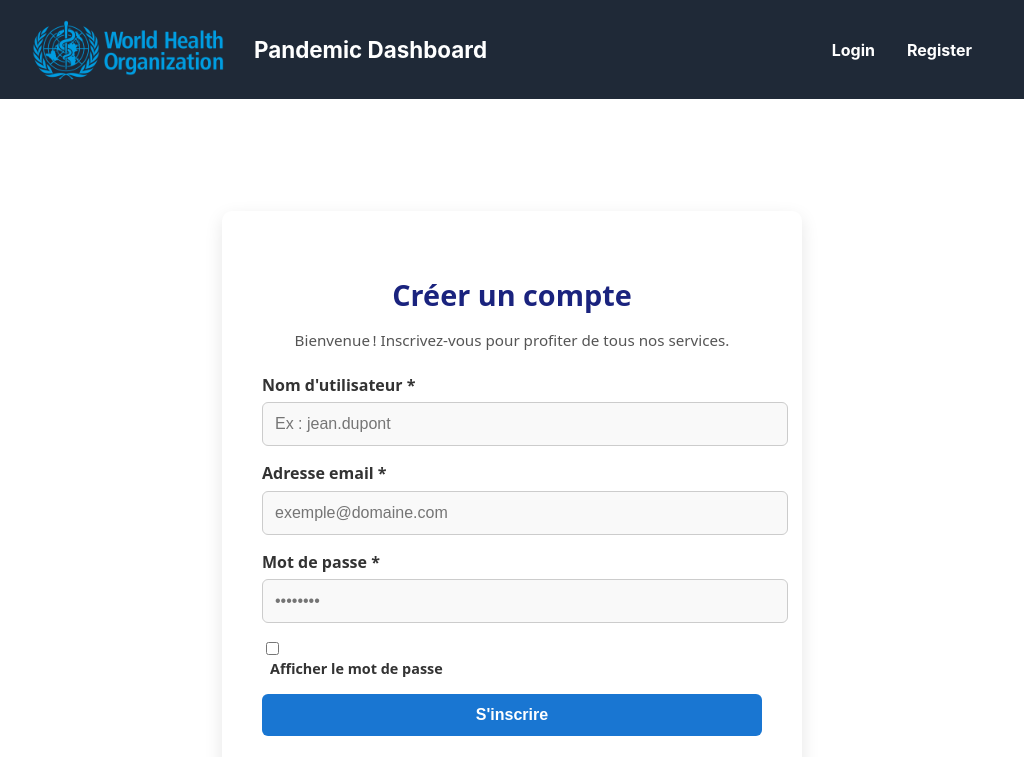
Formulaire d’inscription › affiche une erreur si le serveur renvoie une erreur
The width and height of the screenshot is (1024, 757).
Type "erroruser" into the field with id "username" at (525, 424), box [262,402,788,446]
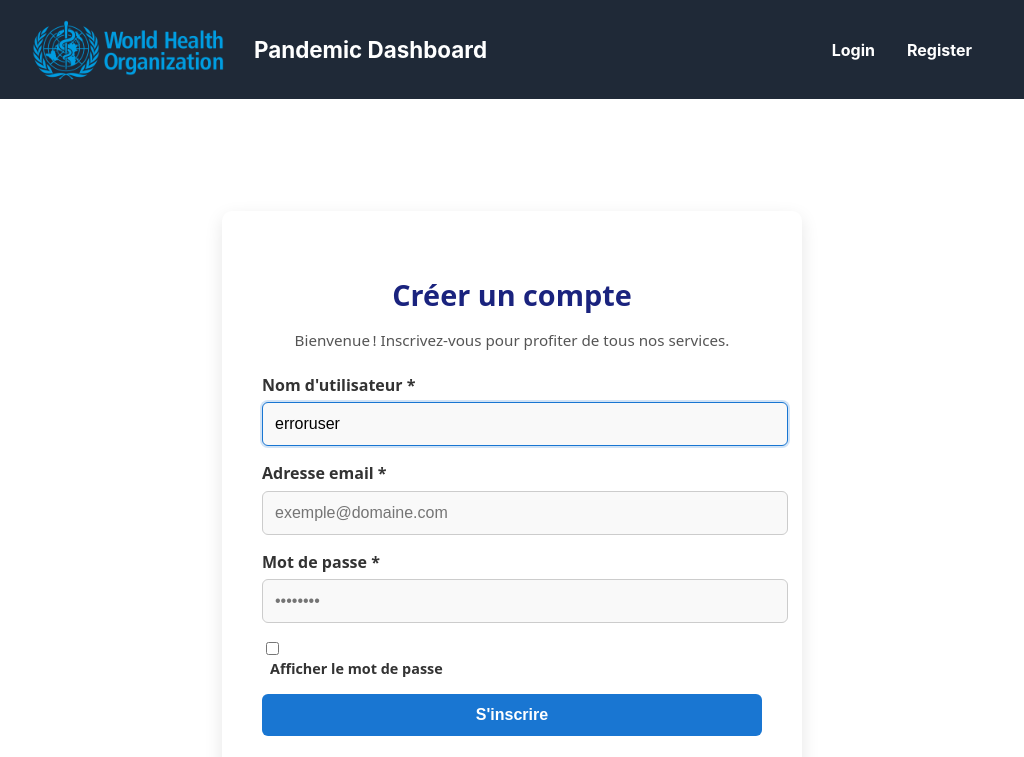
Type "error@example.com" into the field with id "email" at (525, 513), box [262,491,788,535]
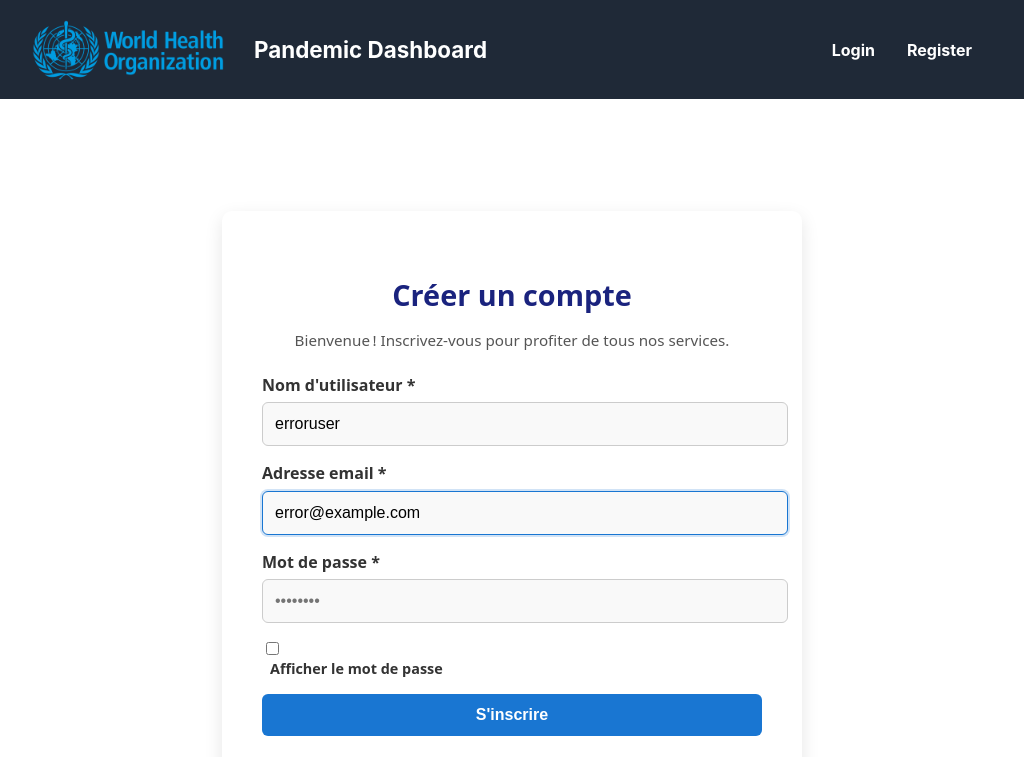
Type "password" into the password field labelled "Mot de passe *" at (525, 601), box [262,579,788,623]
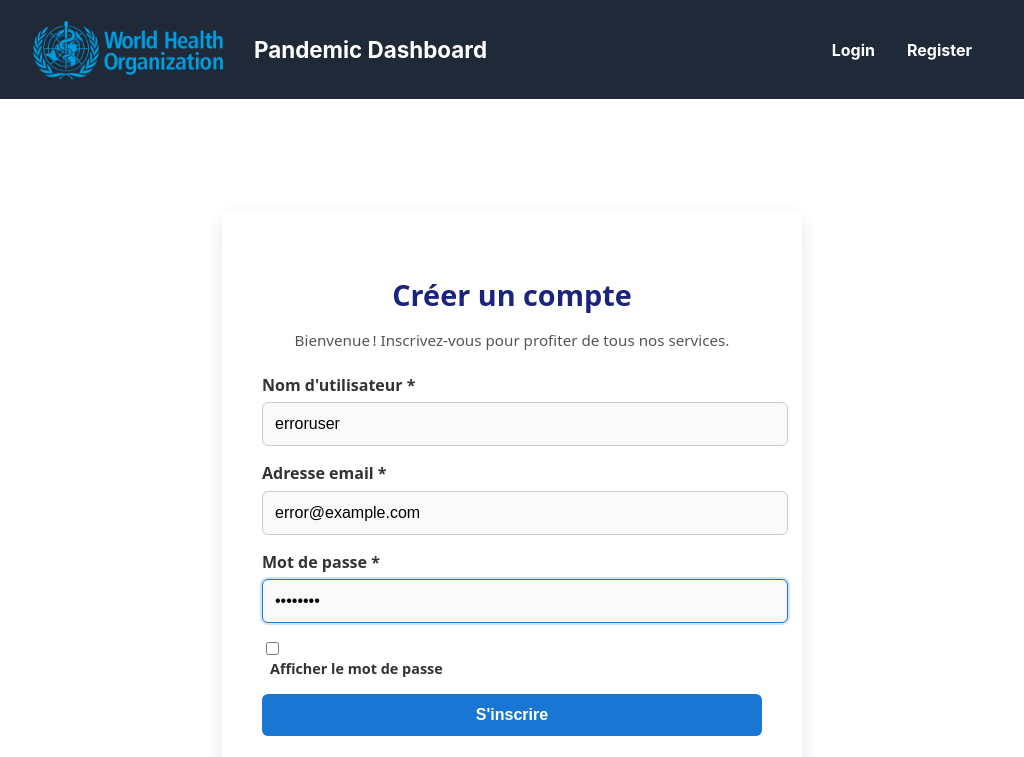
Submit the form, box [262,374,762,736]
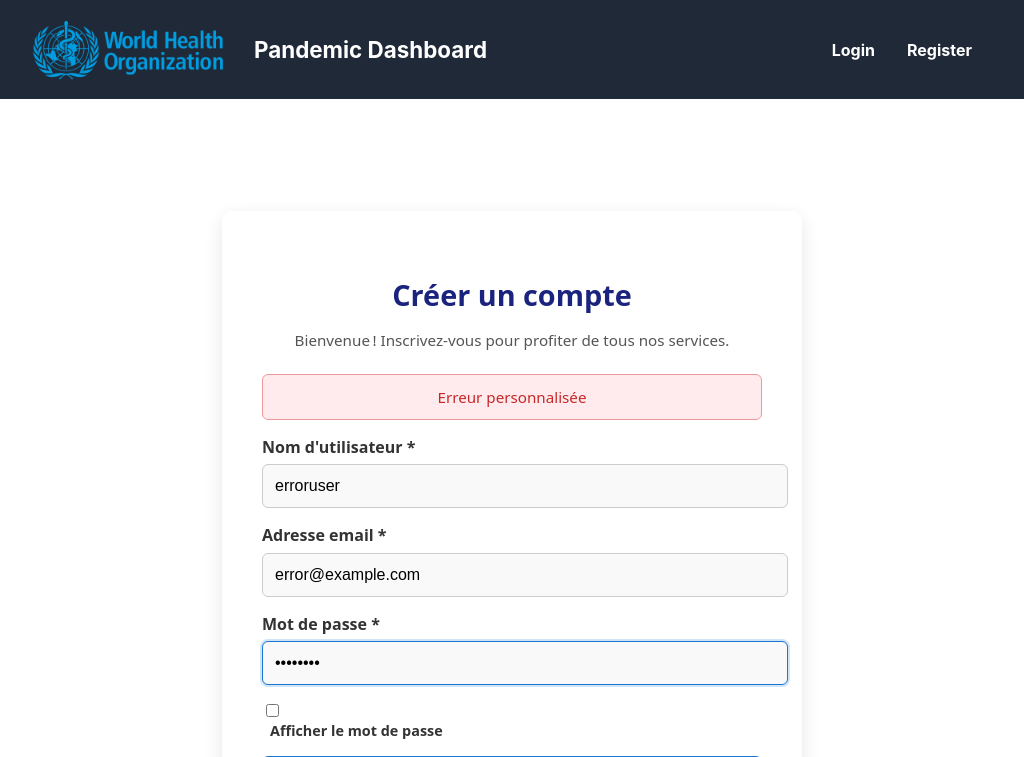
Now the text "Erreur personnalisée" is shown, box [262,374,762,420]
